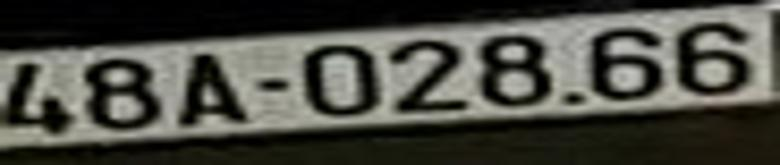-: (259, 72, 293, 100)
.: (555, 87, 594, 117)
0: (304, 39, 383, 122)
2: (386, 39, 474, 118)
4: (1, 59, 75, 144)
6: (588, 24, 668, 104), (675, 16, 752, 98)
8: (86, 55, 164, 133), (481, 28, 551, 112)
A: (178, 50, 254, 132)
